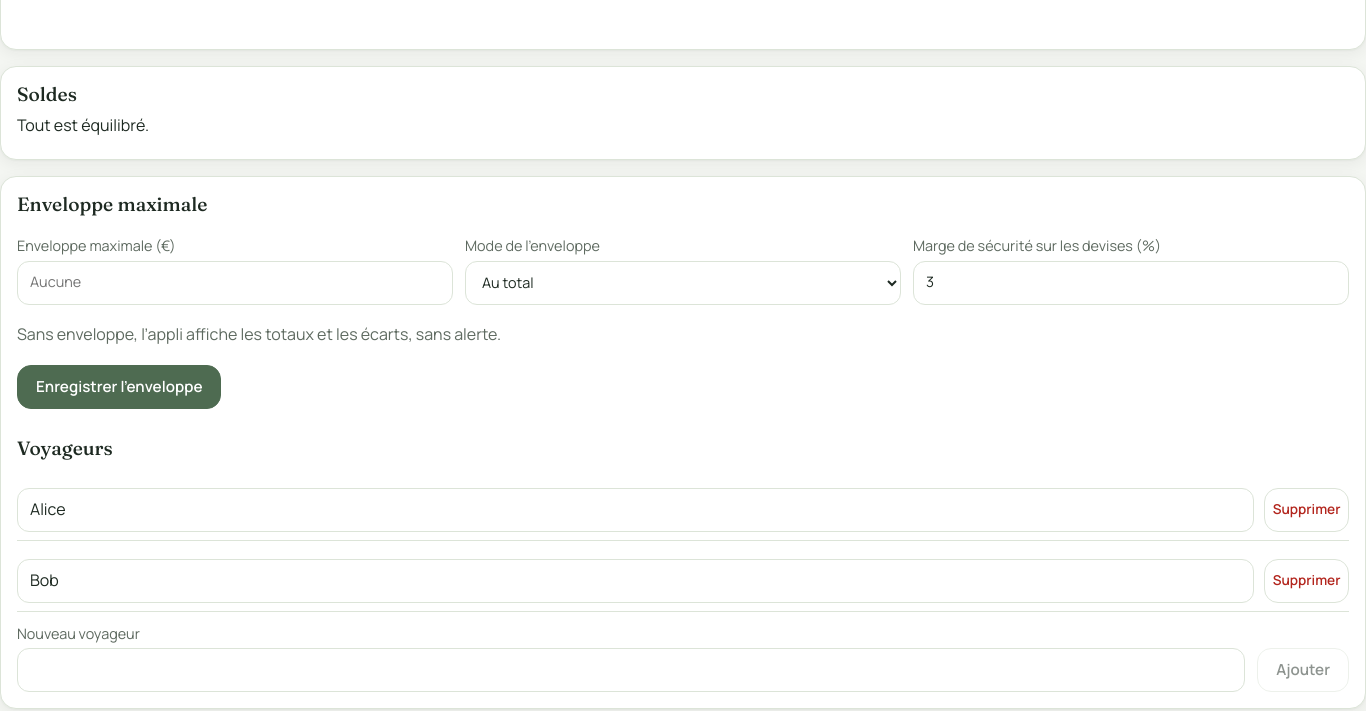
Test case: BudgetTab — voyageurs › refuse de supprimer un voyageur qui a des dépenses, puis le dernier
(page scrolled)
Click the 1st button "Supprimer".
click(1307, 510)  # box [1264,488,1349,532]
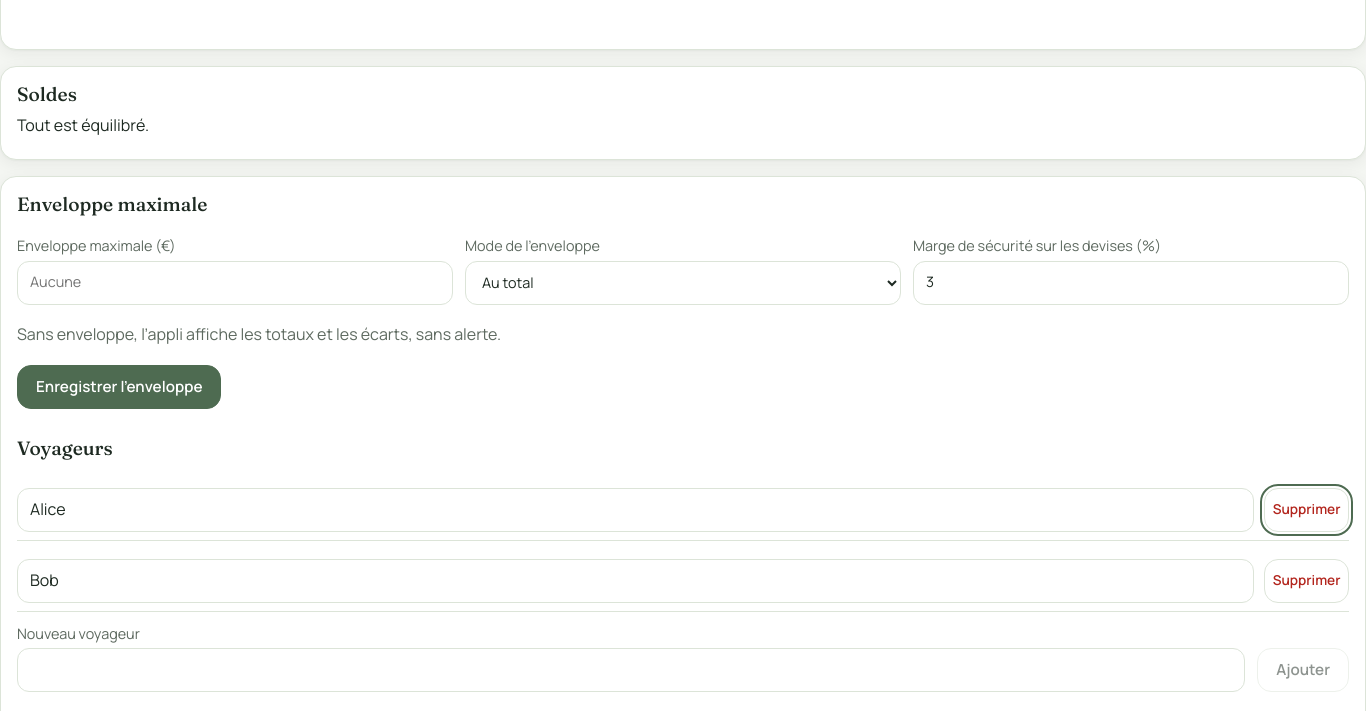
Click the 2nd button "Supprimer".
click(1307, 581)  # box [1264,559,1349,603]
(page scrolled)
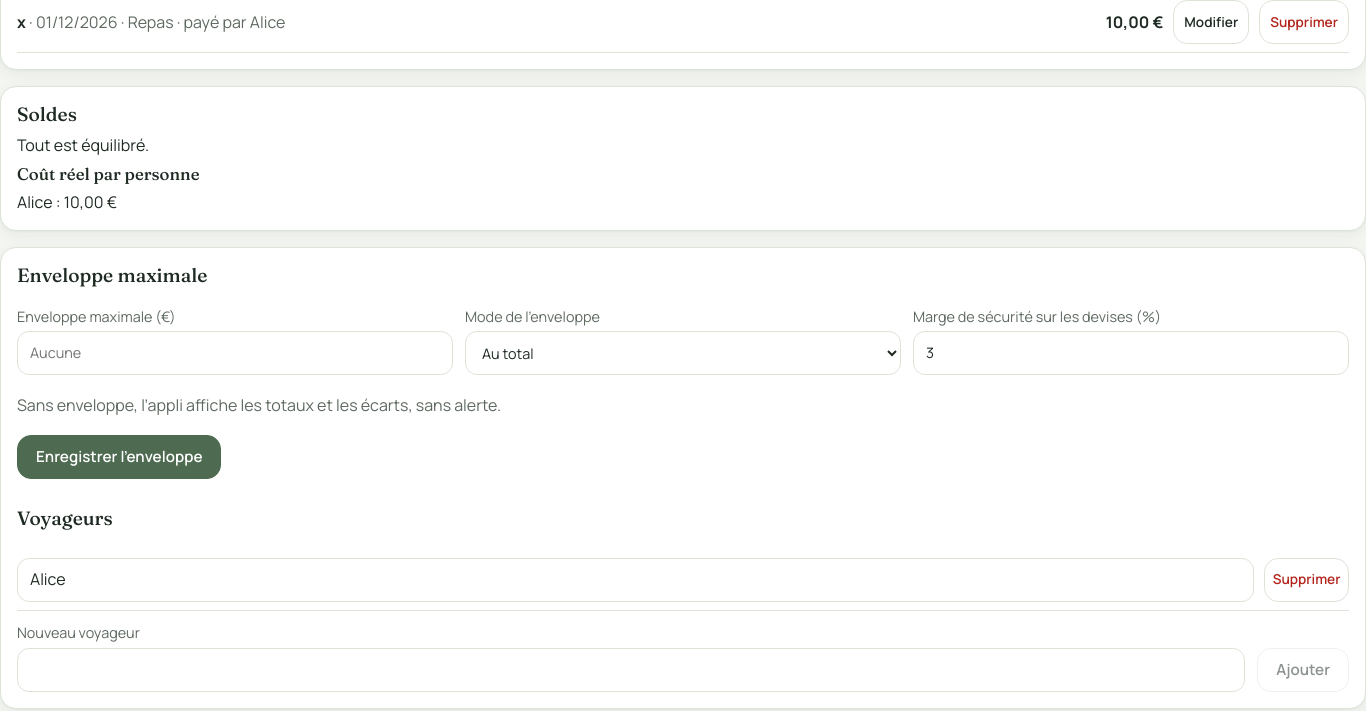
Click the button "Supprimer" below "Marge de sécurité sur les devises (%)".
click(1307, 580)  # box [1264,558,1349,602]
(page scrolled)
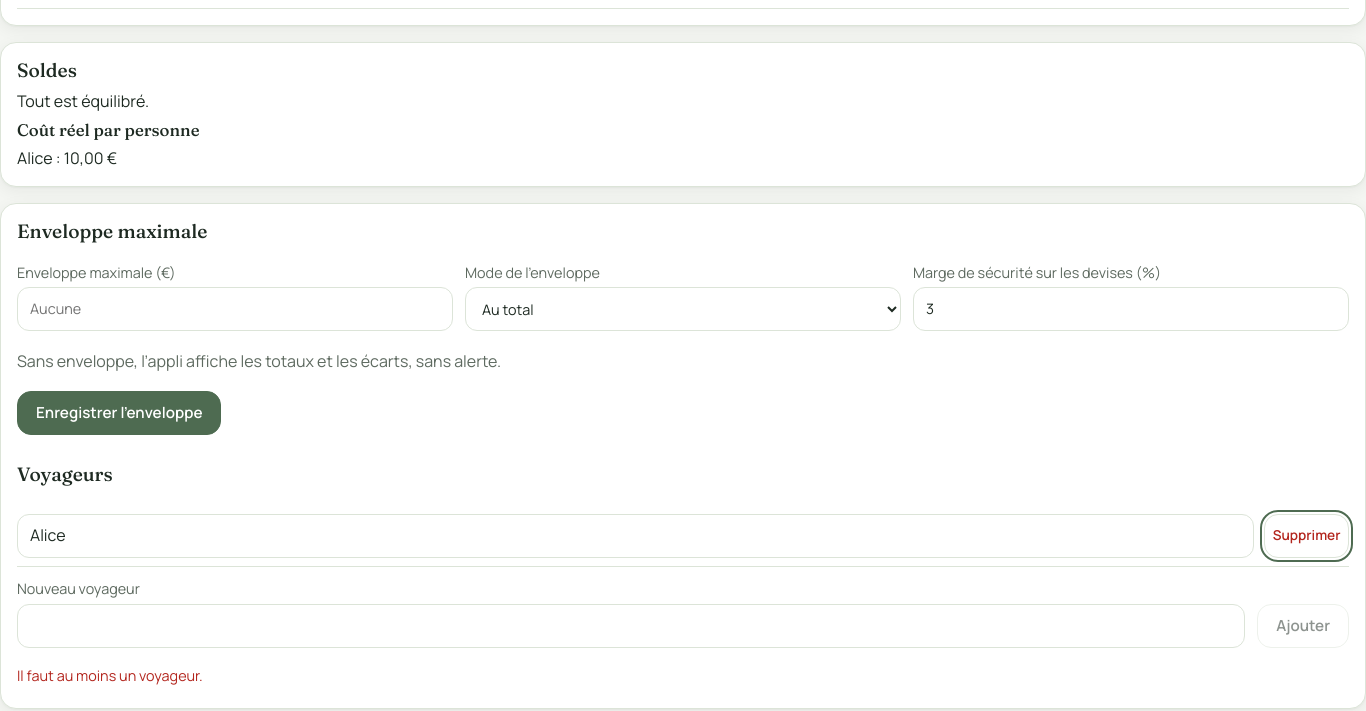
Expected: the text "Il faut au moins un voyageur." is shown, [17,666,203,685]
